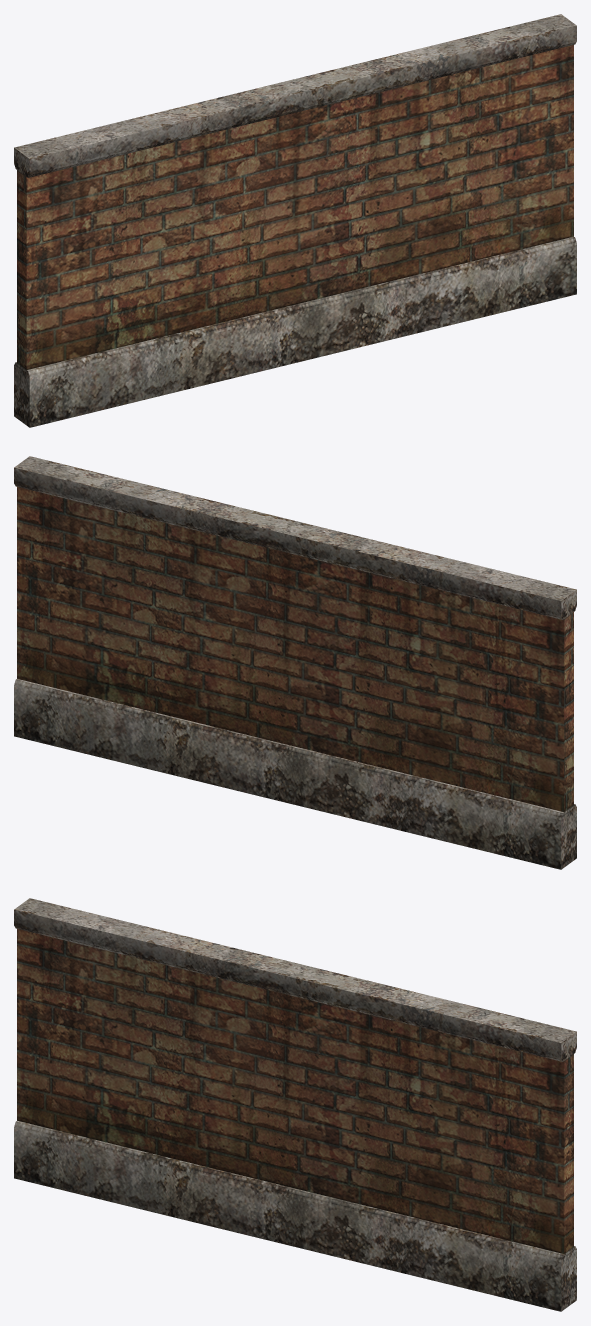
Rendered from brick_wall.FBX.
The picture shows the model from 3 angles, top to bottom: view 1: azimuth 30°, elevation 25°; view 2: azimuth 150°, elevation 25°; view 3: azimuth 330°, elevation 25°; orthographic projection.
Parts seen in each view (by area): view 1: polySurface34; view 2: polySurface34; view 3: polySurface34.
Part boxes in pixels (x1,y1,x2,y2): polySurface34: (14,14,576,427); polySurface34: (14,456,576,869); polySurface34: (14,898,576,1311).
Bounding box in the file's own units: 2.36 × 1.11 × 0.1181.
